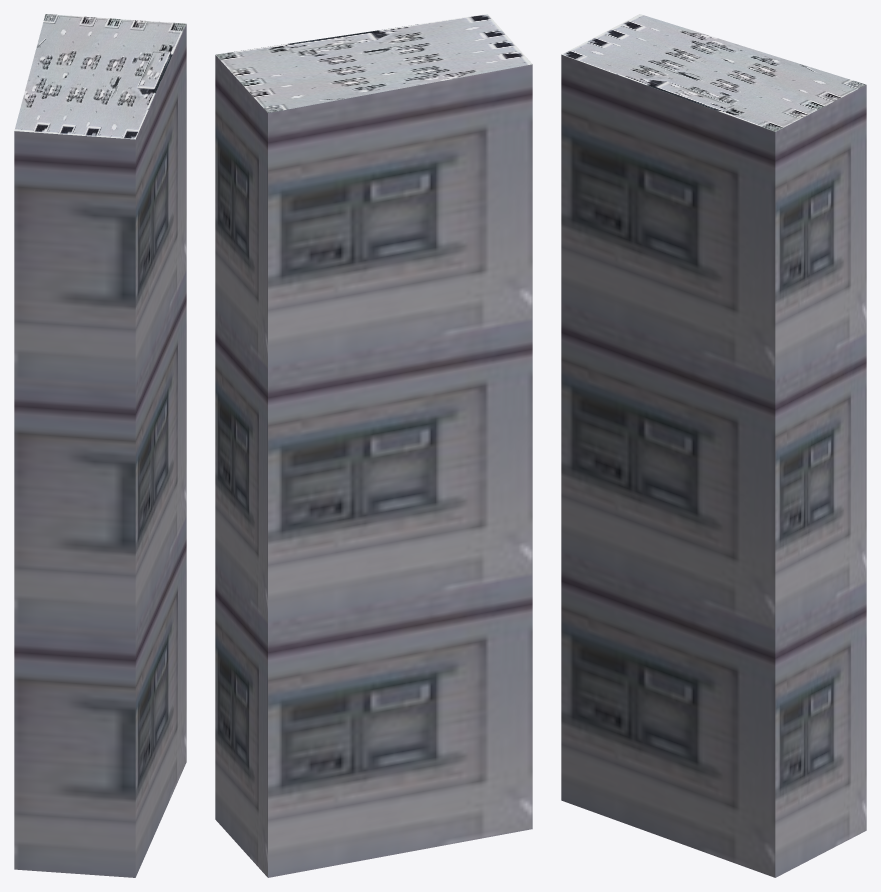
Rendered from ResTex__2164.fbx.
3 renders of one model, left to right at view 1: azimuth 30°, elevation 25°; view 2: azimuth 150°, elevation 25°; view 3: azimuth 270°, elevation 25°, orthographic. The views are drawn at different scales.
Visible parts, largest first — view 1: CityEngineMaterial_1_m, CityEngineMaterial_m; view 2: CityEngineMaterial_1_m, CityEngineMaterial_m; view 3: CityEngineMaterial_1_m, CityEngineMaterial_m.
Part boxes in pixels (box(x1,y1,x2,y2)): CityEngineMaterial_1_m: box(14, 24, 186, 877); CityEngineMaterial_m: box(14, 14, 186, 139); CityEngineMaterial_1_m: box(215, 55, 532, 877); CityEngineMaterial_m: box(215, 14, 532, 112); CityEngineMaterial_1_m: box(561, 54, 866, 877); CityEngineMaterial_m: box(561, 14, 865, 131).
Bounding box in the file's own units: 3.05 × 9 × 3.34.
2 materials, 2 textured.
